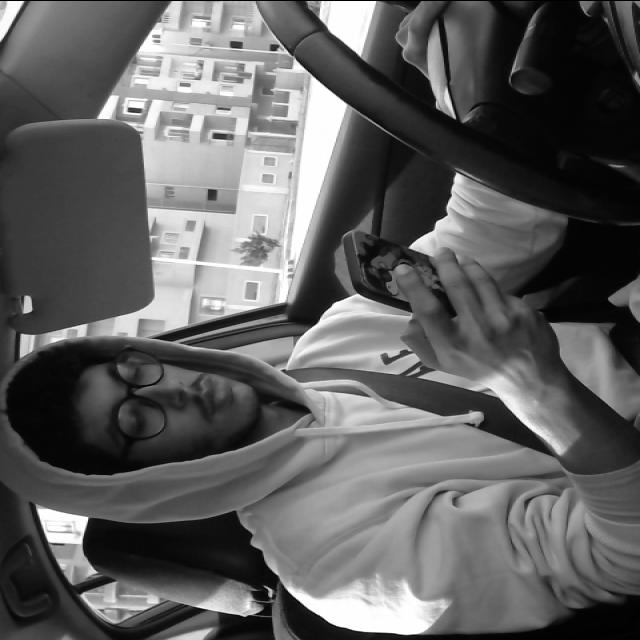mobile use: (339, 225, 501, 312)
